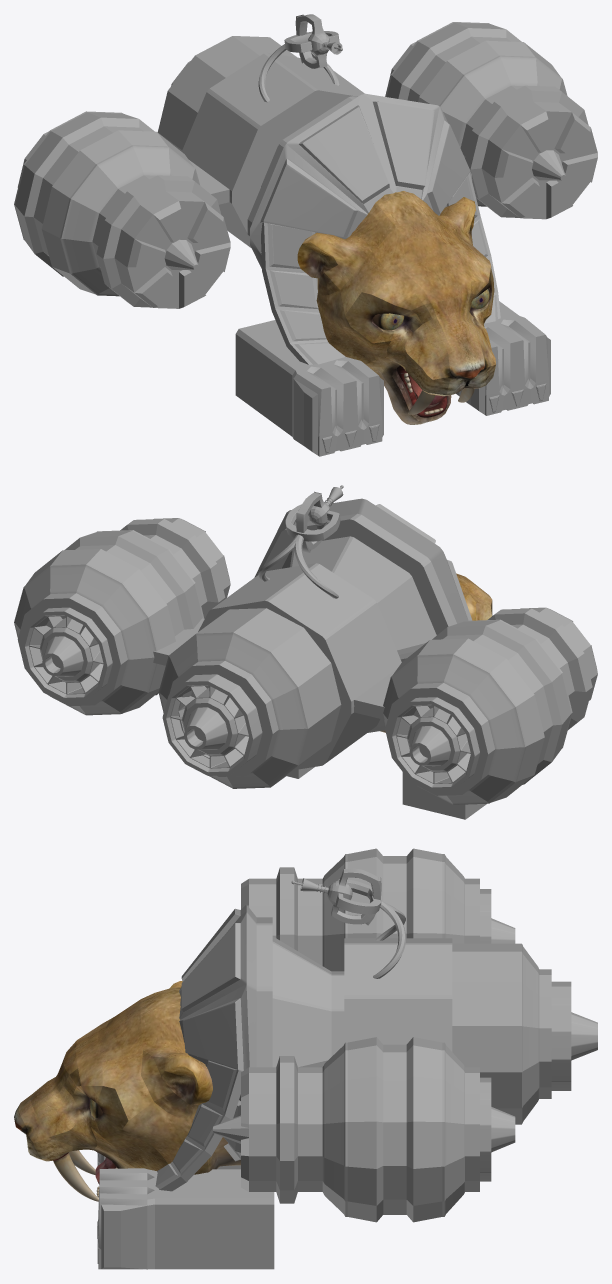
Rendered from RTD_VehicleModel_002.fbx.
The picture shows the model from 3 angles, top to bottom: view 1: azimuth 30°, elevation 25°; view 2: azimuth 150°, elevation 25°; view 3: azimuth 270°, elevation 25°; orthographic projection. The views are drawn at different scales.
Visible parts, largest first — view 1: M2_Base, M2_JetEngine2, M2_CatFace, M2_JetEngine1, M2_Paws, M2_SideBurn, M2_JetEngine3, M2_TetherBeam1, M2_TeethEyes, M2_SidBurn, M2_HelixHook1; view 2: M2_Base, M2_JetEngine2, M2_JetEngine1, M2_JetEngine3, M2_JetEngine, M2_JetExhaust, M2_JetExhaust1, M2_TetherBeam1, M2_Paws, M2_CatFace, M2_HelixHook1; view 3: M2_JetEngine1, M2_Base, M2_CatFace, M2_Paws, M2_JetEngine2, M2_JetEngine3, M2_SidBurn, M2_JetEngine, M2_TetherBeam1, M2_JetExhaust, M2_TeethEyes, M2_JetExhaust1 (+1 smaller).
Boxes of the visible parts, x1,y1,x2,y2 form: M2_Base: (181,52,472,268); M2_JetEngine2: (14,111,230,308); M2_CatFace: (297,191,495,424); M2_JetEngine1: (385,22,597,219); M2_Paws: (235,301,550,456); M2_SideBurn: (261,222,345,364); M2_JetEngine3: (157,36,297,151); M2_TetherBeam1: (284,14,342,68); M2_TeethEyes: (372,288,490,417); M2_SidBurn: (447,173,500,323); M2_HelixHook1: (258,44,339,102); M2_Base: (153,498,472,769); M2_JetEngine2: (383,607,597,804); M2_JetEngine1: (14,518,230,715); M2_JetEngine3: (158,608,341,788); M2_JetEngine: (162,674,262,775); M2_JetExhaust: (21,607,112,701); M2_JetExhaust1: (389,697,479,790); M2_TetherBeam1: (285,485,343,552); M2_Paws: (287,767,486,819); M2_CatFace: (380,573,492,732); M2_HelixHook1: (258,534,338,598); M2_JetEngine1: (213,1037,479,1222); M2_Base: (179,904,452,1161); M2_CatFace: (14,981,240,1184); M2_Paws: (97,1152,274,1269); M2_JetEngine2: (241,848,479,971); M2_JetEngine3: (452,943,551,1124); M2_SidBurn: (155,1060,241,1191); M2_JetEngine: (551,981,597,1090); M2_TetherBeam1: (291,868,382,925); M2_JetExhaust: (480,1077,515,1181); M2_TeethEyes: (53,1099,117,1201); M2_JetExhaust1: (480,889,515,943).
Bounding box in the file's own units: 13.99 × 8.43 × 12.92.
4 materials, 3 textured.
